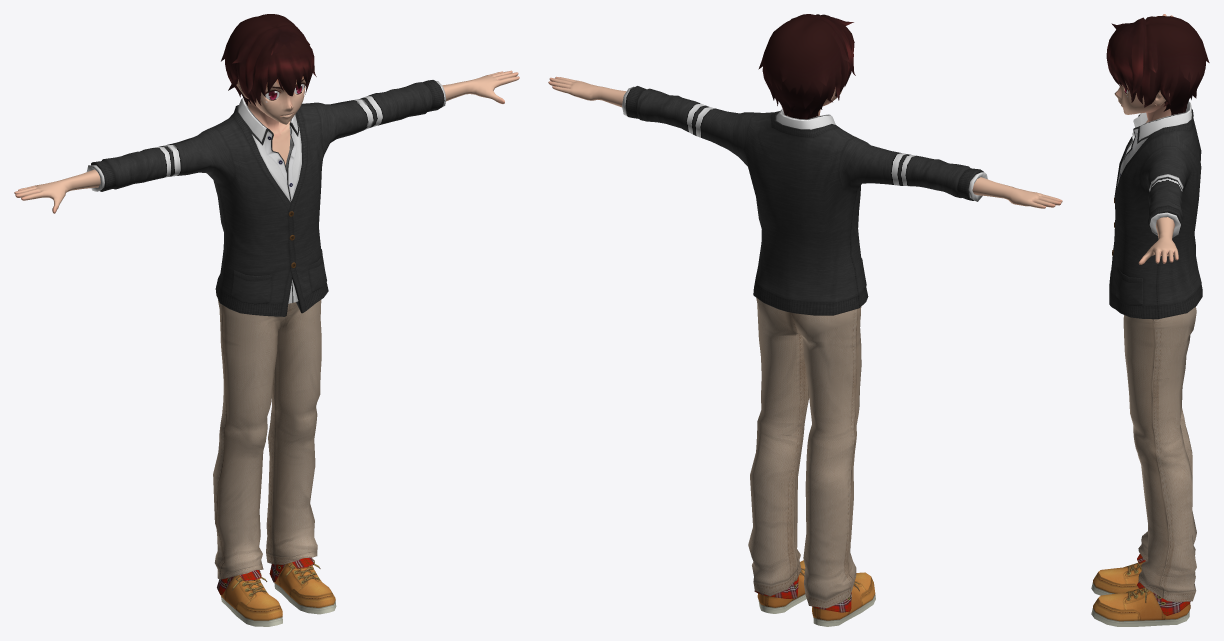
Rendered from shirasaki.fbx.
3 views of the same model, side by side, from view 1: azimuth 30°, elevation 25°; view 2: azimuth 150°, elevation 25°; view 3: azimuth 270°, elevation 25° (orthographic).
Parts seen in each view (by area): view 1: sirasaki; view 2: sirasaki; view 3: sirasaki.
Part boxes in pixels (x1,y1,x2,y2): sirasaki: [14, 14, 519, 626]; sirasaki: [548, 14, 1062, 626]; sirasaki: [1091, 14, 1209, 626].
Size of the model in its own units: 160 by 176 by 32.29.
Materials: 4 (4 with a texture image).
